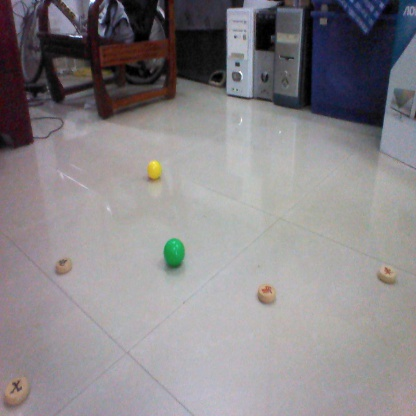ball: (162, 238, 186, 267), (146, 158, 163, 181)
chess: (5, 374, 30, 402), (256, 283, 281, 305), (376, 263, 399, 283), (54, 257, 75, 275)
